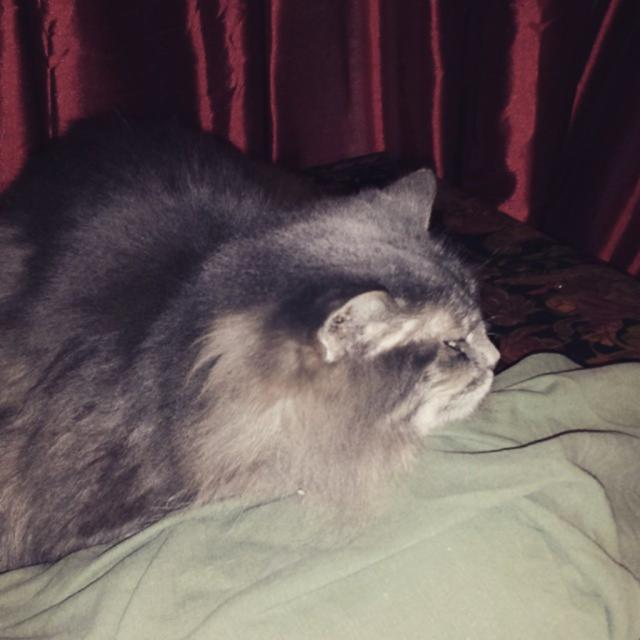Cat: (0, 105, 501, 576)
